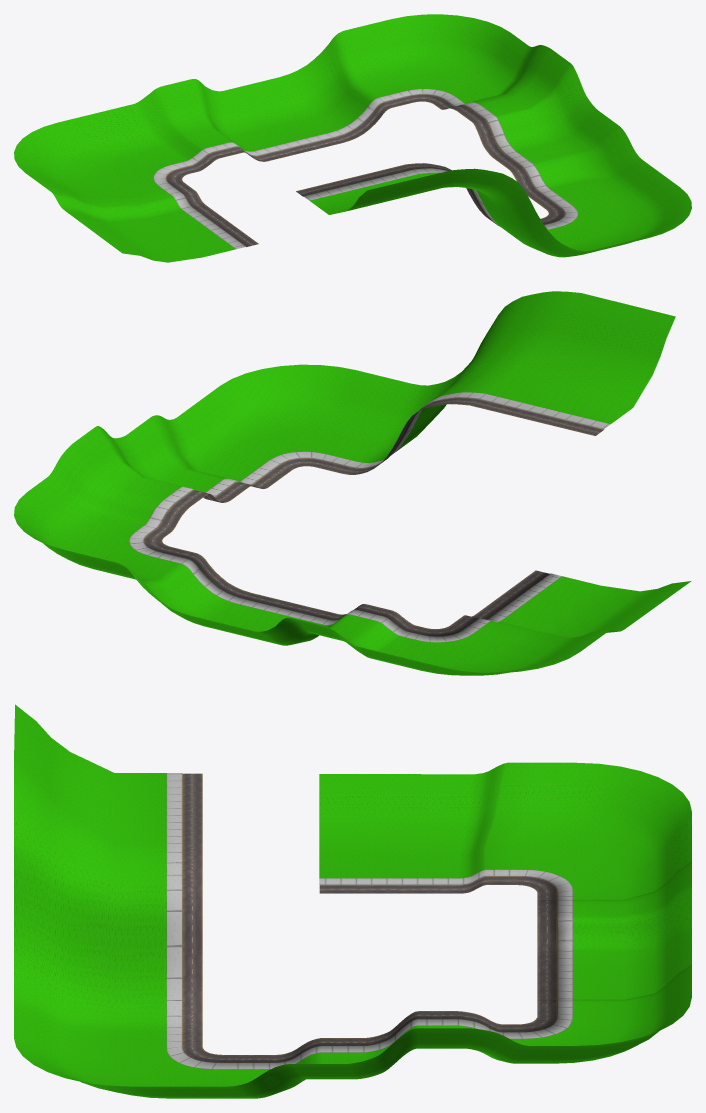
Rendered from Neighbourhood-Hills.fbx.
The picture shows the model from 3 angles, top to bottom: view 1: azimuth 30°, elevation 25°; view 2: azimuth 150°, elevation 25°; view 3: azimuth 270°, elevation 25°; orthographic projection. The views are drawn at different scales.
Visible parts, largest first — view 1: STREET 3.001; view 2: STREET 3.001; view 3: STREET 3.001.
Boxes of the visible parts, x1=… form: STREET 3.001: x1=14, y1=14, x2=691, y2=262; STREET 3.001: x1=14, y1=291, x2=691, y2=675; STREET 3.001: x1=14, y1=704, x2=691, y2=1098.
Bounding box in the file's own units: 1319 × 363 × 1209.
